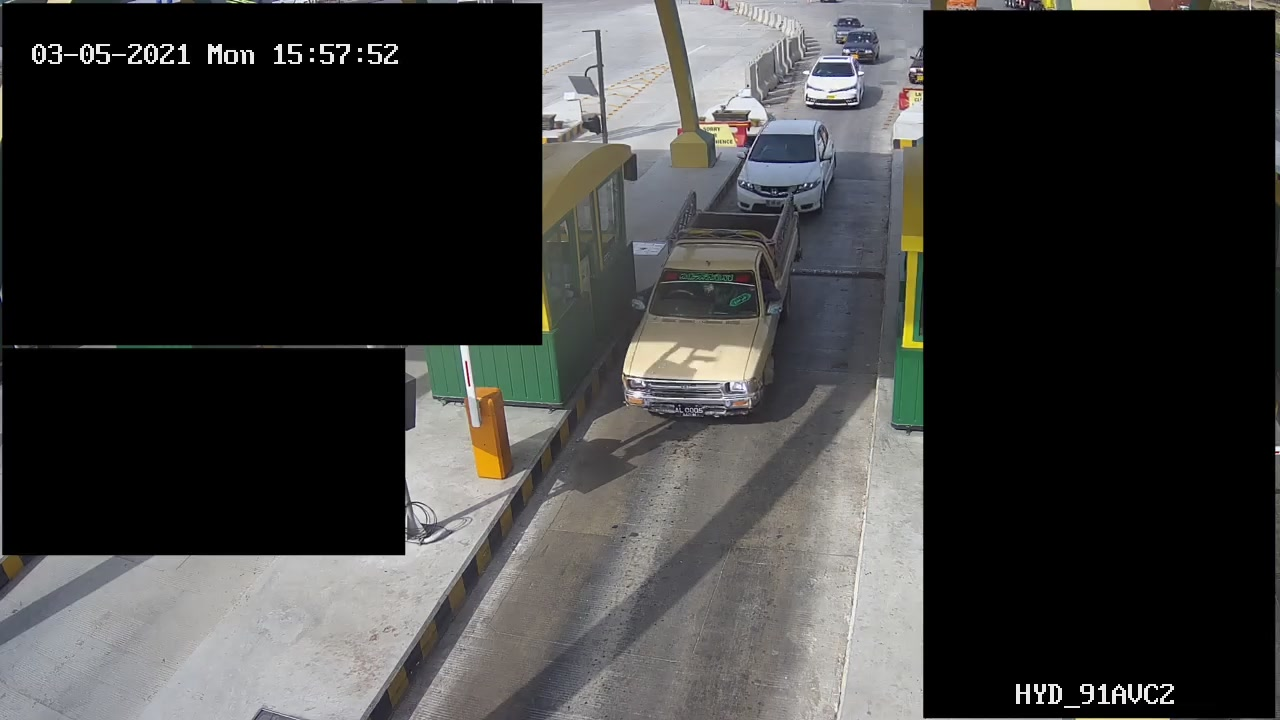F1: (615, 183, 809, 432)
